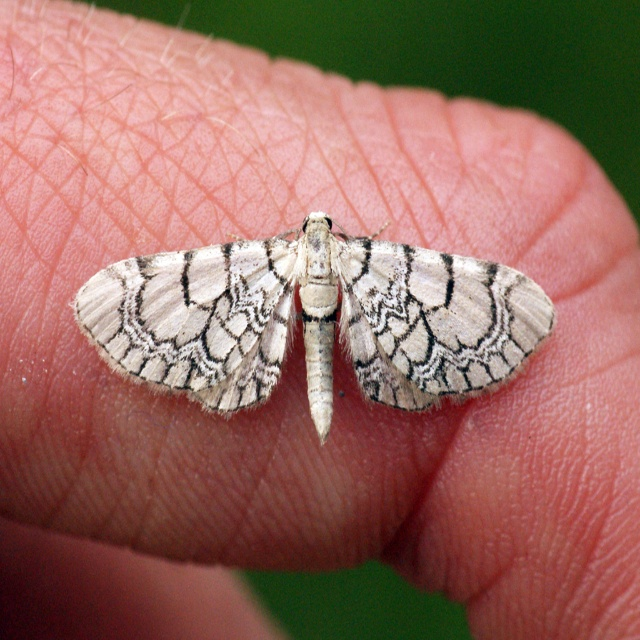Moths and butterflies: (69, 211, 558, 449)
